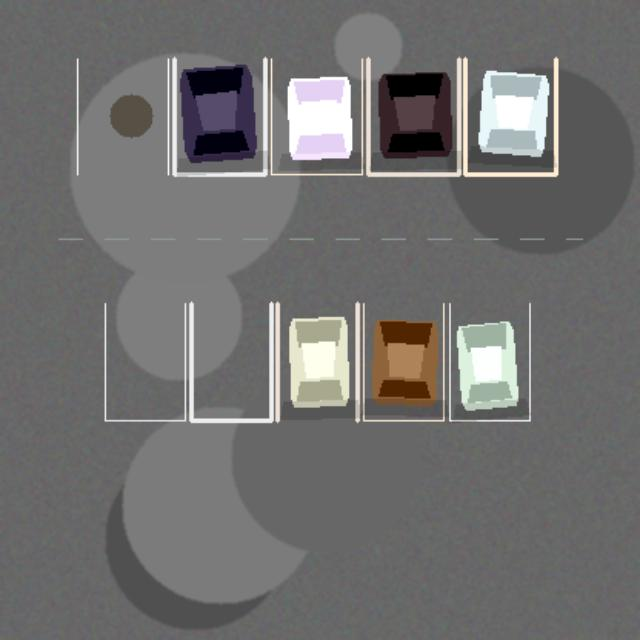space-empty: (77, 58, 168, 174), (105, 303, 185, 420), (191, 303, 271, 420)
space-occupied: (174, 58, 265, 174), (271, 58, 362, 174), (368, 58, 458, 174), (465, 58, 555, 174), (277, 303, 357, 420), (363, 303, 443, 420), (449, 303, 529, 420)
